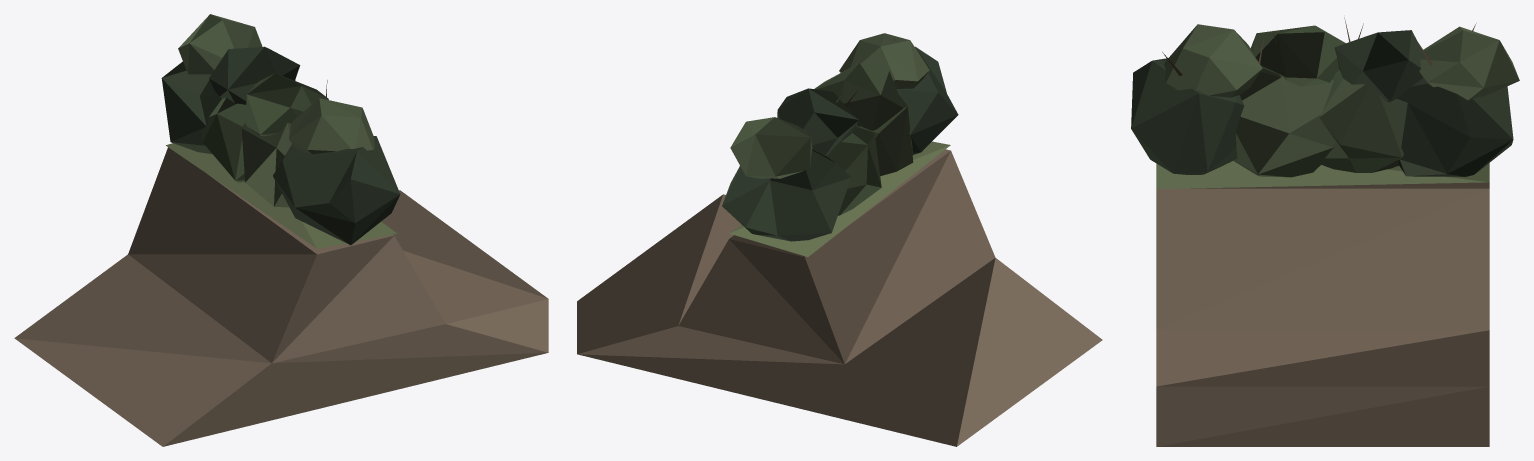
The model's file is bree_dike_hedge_lod1.glb.
The picture shows the model from 3 angles, left to right: view 1: azimuth 30°, elevation 25°; view 2: azimuth 150°, elevation 25°; view 3: azimuth 270°, elevation 25°; orthographic projection. The views are drawn at different scales.
Visible parts, largest first — view 1: bree_dike_hedge_lod1; view 2: bree_dike_hedge_lod1; view 3: bree_dike_hedge_lod1.
Part boxes in pixels (<box>): bree_dike_hedge_lod1: <box>14,14,548,446</box>; bree_dike_hedge_lod1: <box>577,33,1102,446</box>; bree_dike_hedge_lod1: <box>1131,18,1519,446</box>.
Bounding box in the file's own units: 6 × 4.19 × 4.66.
